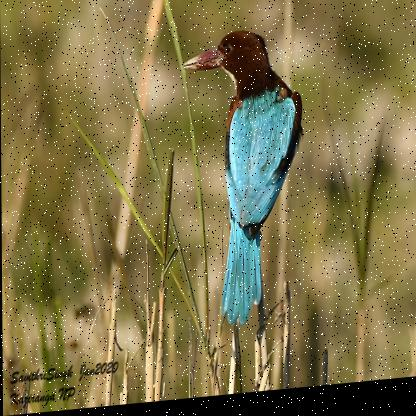Burung: (183, 29, 303, 333)
